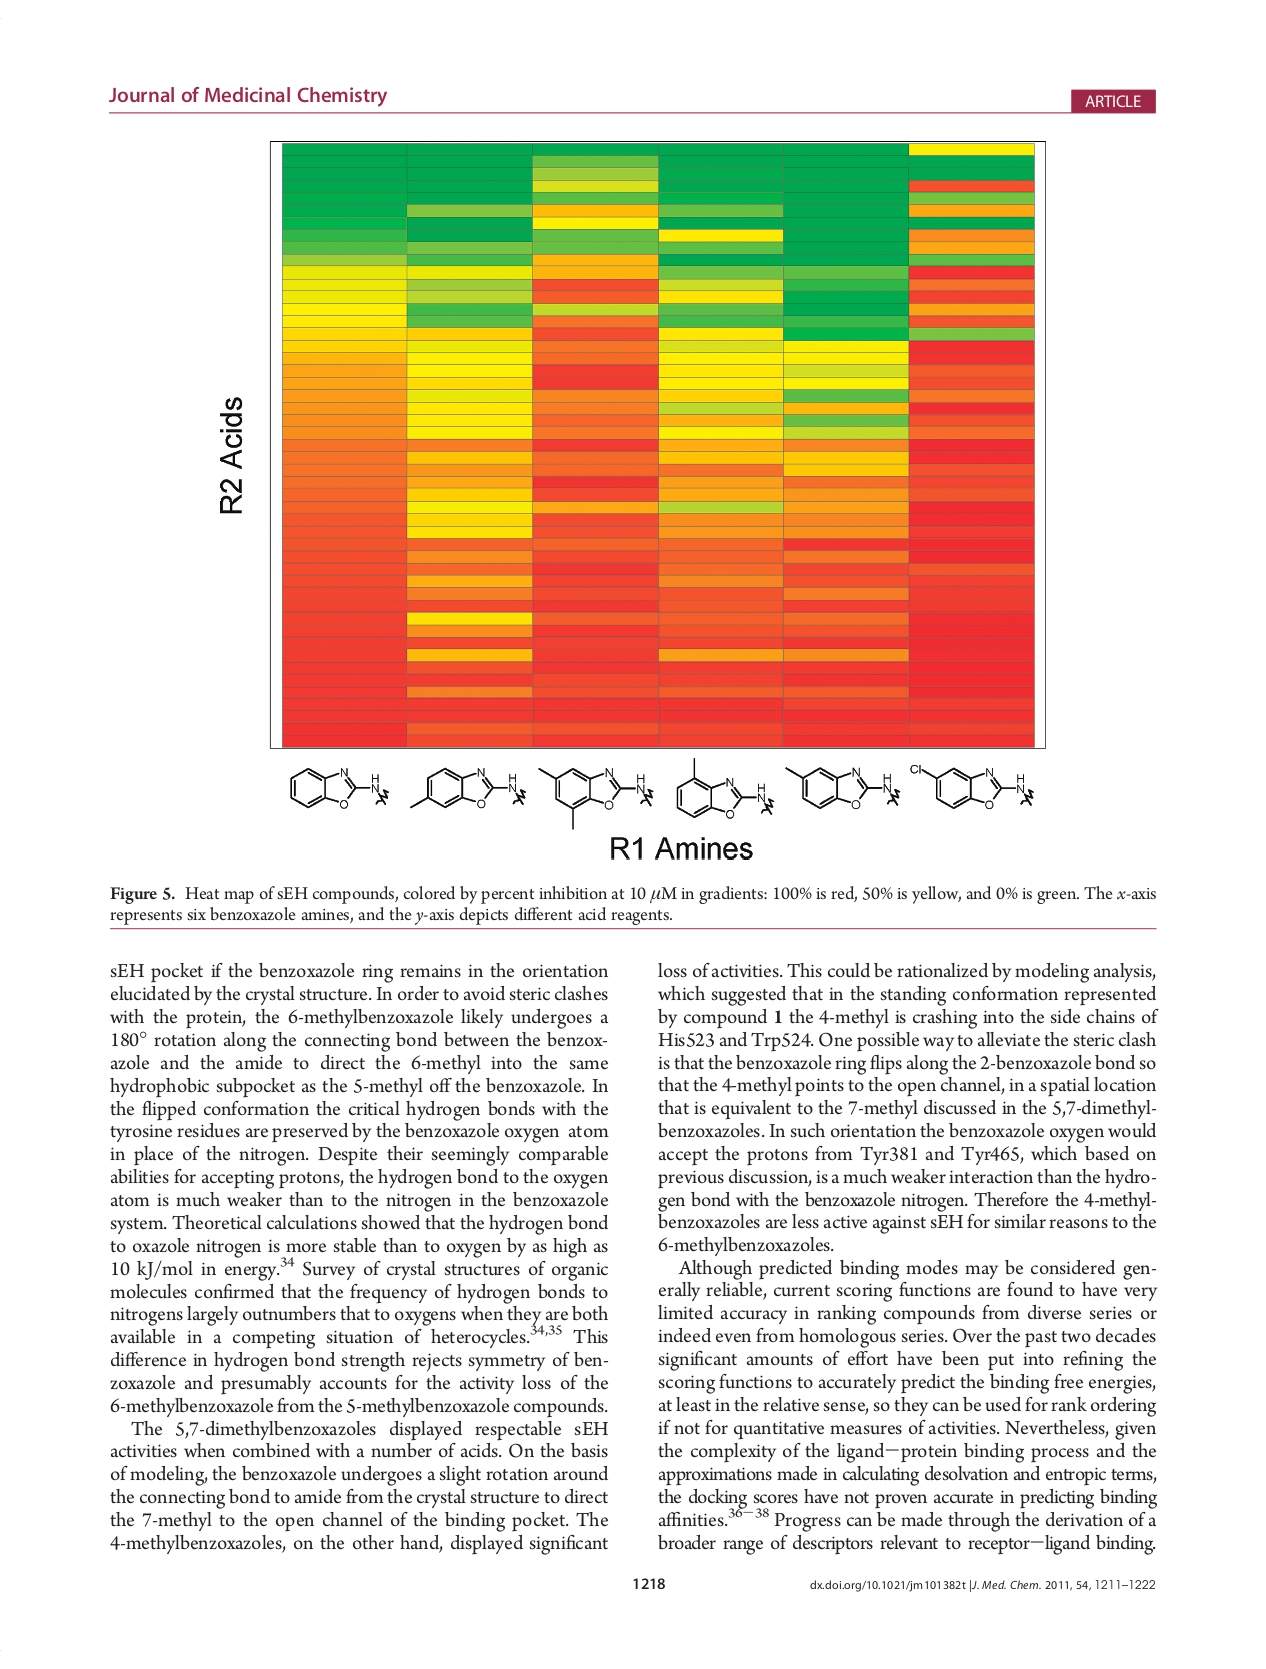exist_molecular: (539, 758, 656, 834), (906, 763, 1040, 815), (782, 759, 903, 817), (672, 755, 775, 822), (408, 765, 528, 821), (281, 758, 395, 813)
